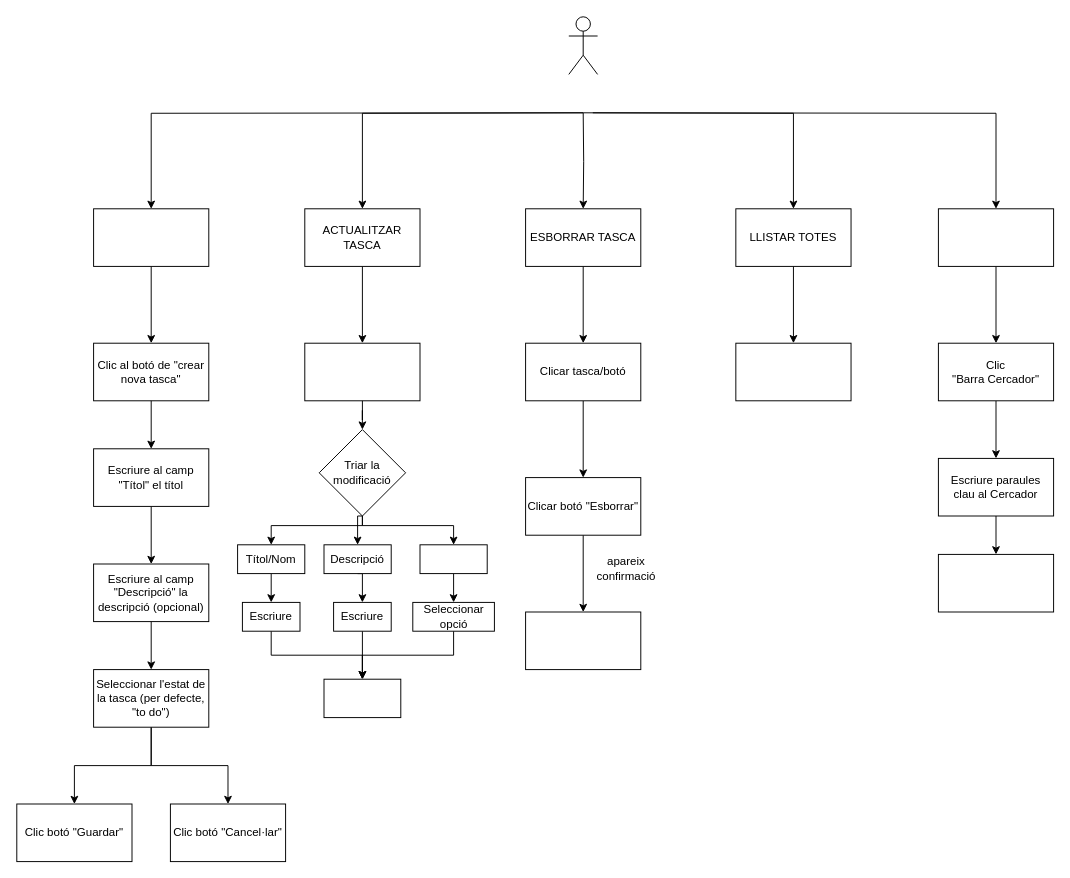
Image size: 1070x878. Some labels were removed from this diagram. Each missing label, with the centre of its shape:
BUSCAR TASCA: (995,237)
Clic "Enter" / Botó "Buscar": (995,582)
Clic tasca/botó: (362,371)
Clicar botó "Acceptar": (583,640)
Clicar botó: MOSTRAR TOTES: (793,371)
CREAR TASCA: (151,237)
Estat: (453,559)
Guardar: (362,698)
Usuari: (583,45)
